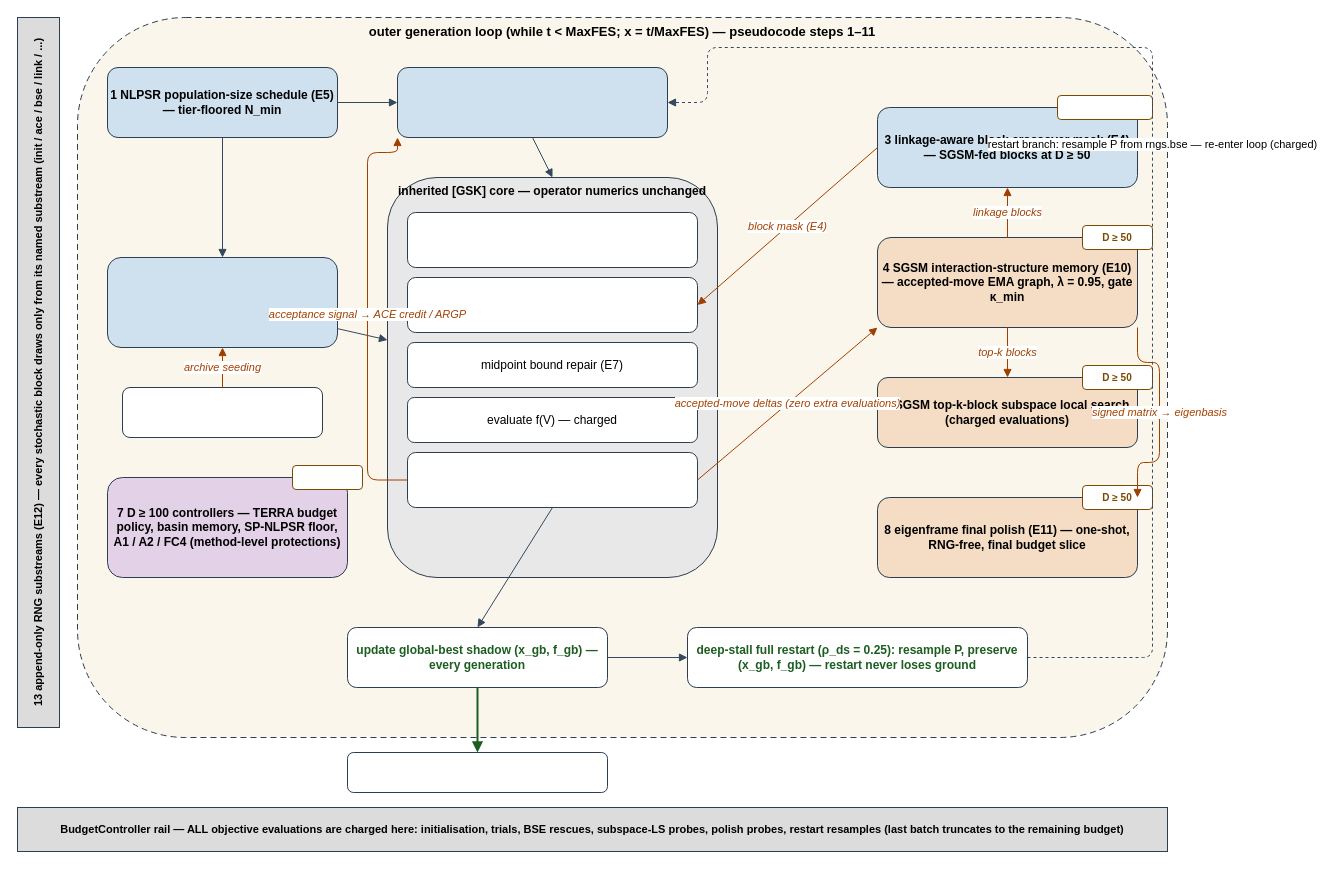
This 1334x869 diagram has some shape labels left out. The centre of each missing label's shape, as x and y in pixels:
"2 ACE bandit operator-pool control + ARGP arm pruning (E6)" belongs at (x=532, y=102).
"6 BSE budget-safe escape (E9) — hard-capped (R_max, stop fraction)" belongs at (x=222, y=302).
"crossover mask (E4): per-coordinate KR or linkage block mask" belongs at (x=552, y=304).
"D ≥ 100" belongs at (x=327, y=477).
"D ≥ 30/50 tier" belongs at (x=1104, y=107).
"elite archive A (distance-thresholded)" belongs at (x=222, y=412).
"junior / senior gaining–sharing trial construction (E1a, E1b, E2, E3)" belongs at (x=552, y=240).
"return (x_gb, f_gb) — returns global best" belongs at (x=477, y=772).
"strictly-greedy selection (E8): accept iff f(v_i) < f(x_i)" belongs at (x=552, y=480).
